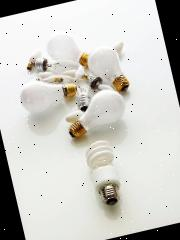lightbulb: (7, 18, 142, 149), (61, 85, 130, 140), (74, 40, 132, 100), (81, 138, 126, 209), (16, 71, 80, 117)
